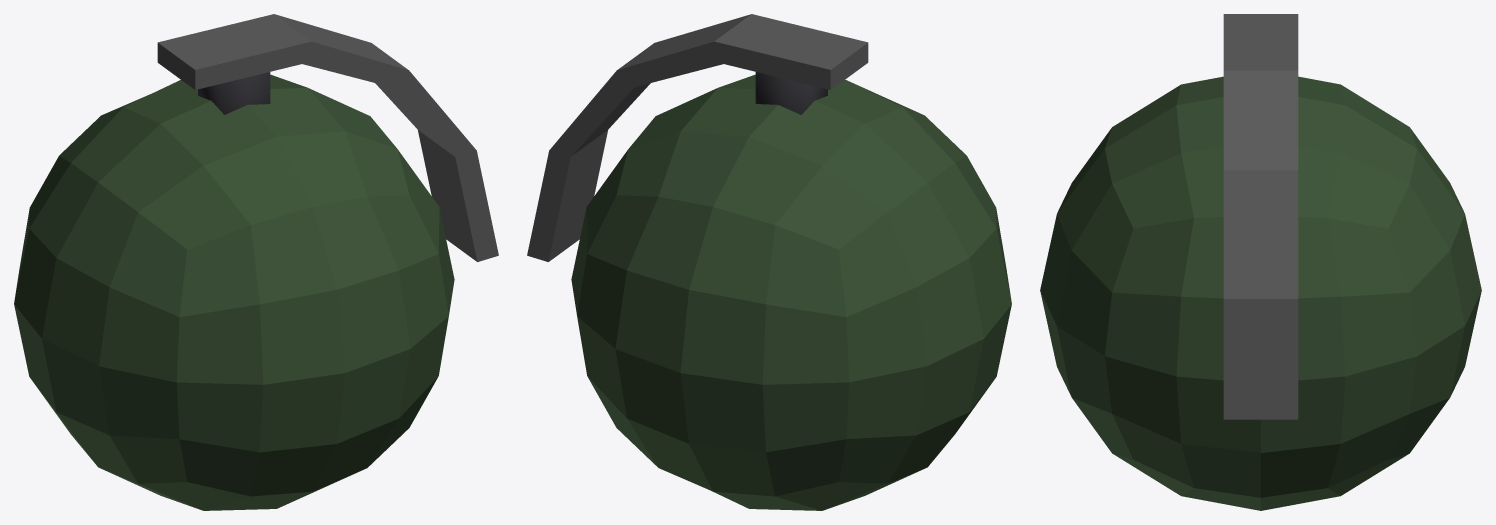
File: 9c6dea46-89a9-418c-81d6-e22dc947ad6f.glb
The picture shows the model from 3 angles, left to right: view 1: azimuth 30°, elevation 25°; view 2: azimuth 150°, elevation 25°; view 3: azimuth 270°, elevation 25°; orthographic projection.
Parts seen in each view (by area): view 1: frag02, frag03, frag01; view 2: frag02, frag03, frag01; view 3: frag02, frag03.
Part boxes in pixels (x1,y1,x2,y2): frag02: [14, 74, 454, 510]; frag03: [157, 14, 498, 261]; frag01: [198, 72, 270, 114]; frag02: [571, 74, 1011, 510]; frag03: [527, 14, 868, 261]; frag01: [755, 72, 827, 114]; frag02: [1040, 76, 1481, 510]; frag03: [1223, 14, 1298, 419].
Size of what is drawn, in the model's own units: 0.1609 by 0.1582 by 0.1413.
1 material, 1 textured.
